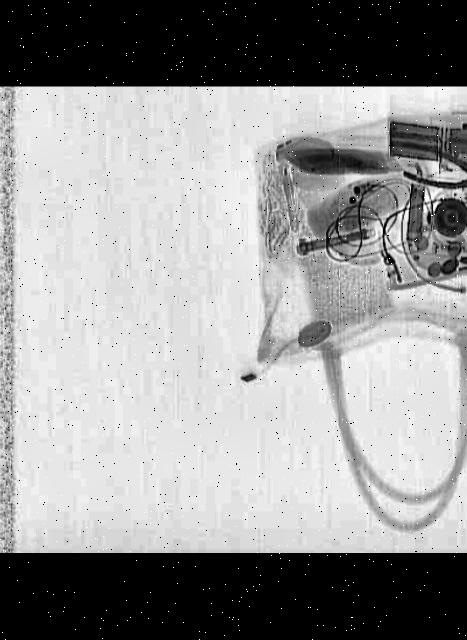Pliers: (388, 139, 467, 206)
